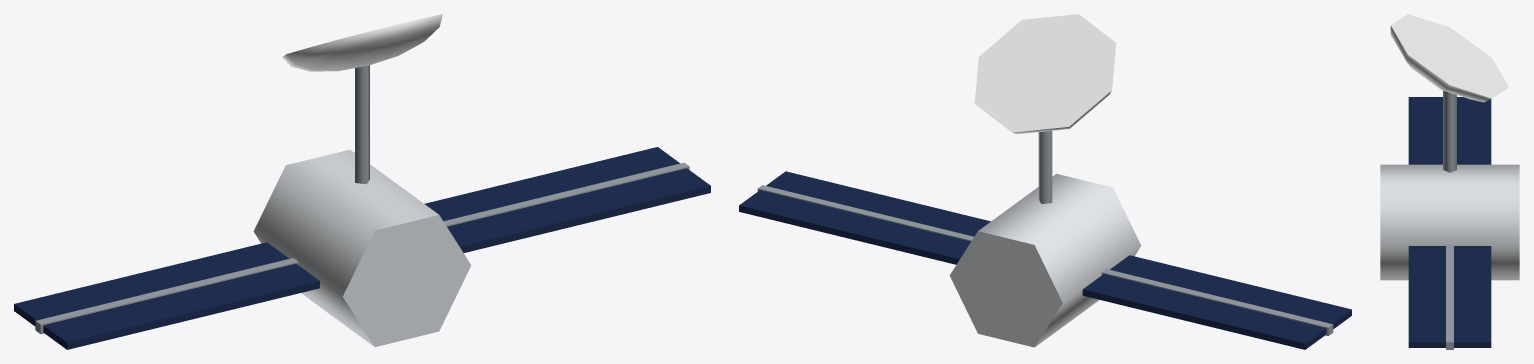
Rendered from space_ship_probe_mk2_lod1.glb.
3 renders of one model, left to right at view 1: azimuth 30°, elevation 25°; view 2: azimuth 150°, elevation 25°; view 3: azimuth 270°, elevation 25°, orthographic. The views are drawn at different scales.
Visible parts, largest first — view 1: body, solar_0, solar_1, antenna_0; view 2: body, antenna_0, solar_0, solar_1; view 3: body, solar_1, antenna_0, solar_0.
Part boxes in pixels (x1=…): body: x1=253, y1=149, x2=471, y2=346; solar_0: x1=14, y1=242, x2=319, y2=349; solar_1: x1=424, y1=147, x2=710, y2=252; antenna_0: x1=282, y1=14, x2=442, y2=184; body: x1=949, y1=173, x2=1141, y2=347; antenna_0: x1=974, y1=14, x2=1116, y2=203; solar_0: x1=1082, y1=255, x2=1351, y2=349; solar_1: x1=739, y1=171, x2=990, y2=264; body: x1=1380, y1=164, x2=1519, y2=280; solar_1: x1=1408, y1=244, x2=1491, y2=349; antenna_0: x1=1390, y1=14, x2=1508, y2=172; solar_0: x1=1408, y1=97, x2=1491, y2=164.
Size of the model in its own units: 5.64 by 2.58 by 1.34.
